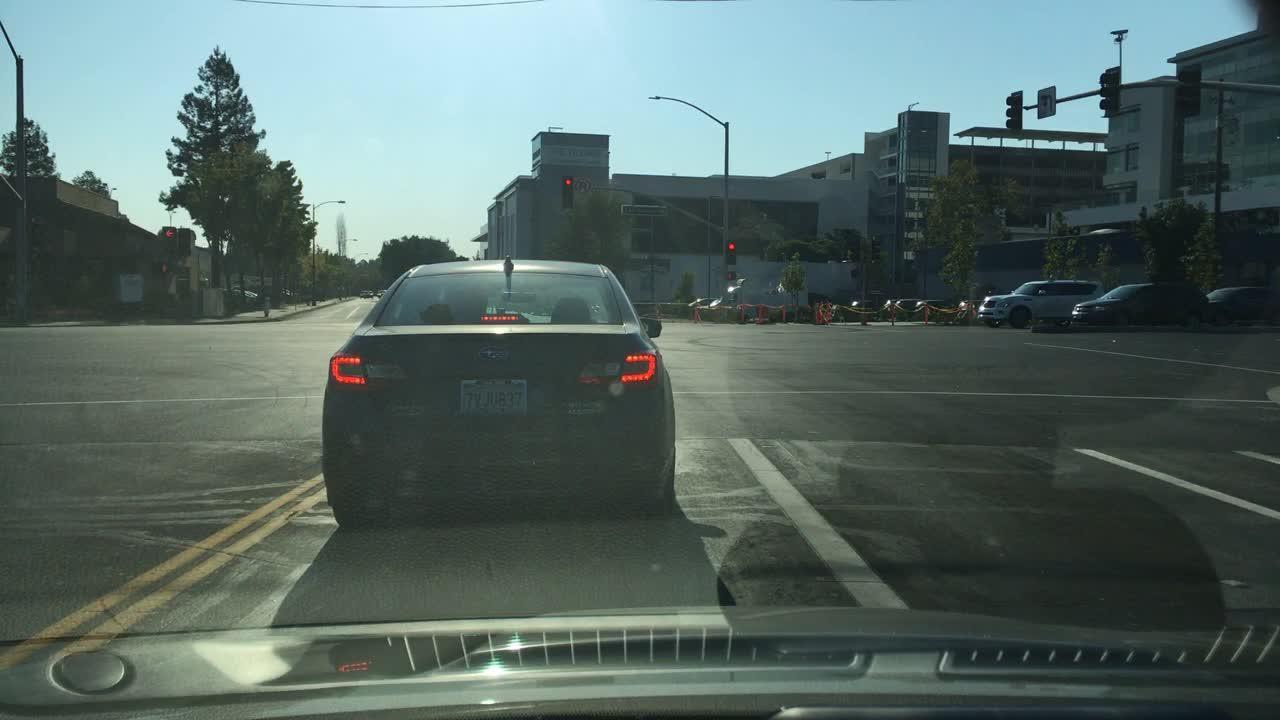subaru: (477, 344, 507, 362)
